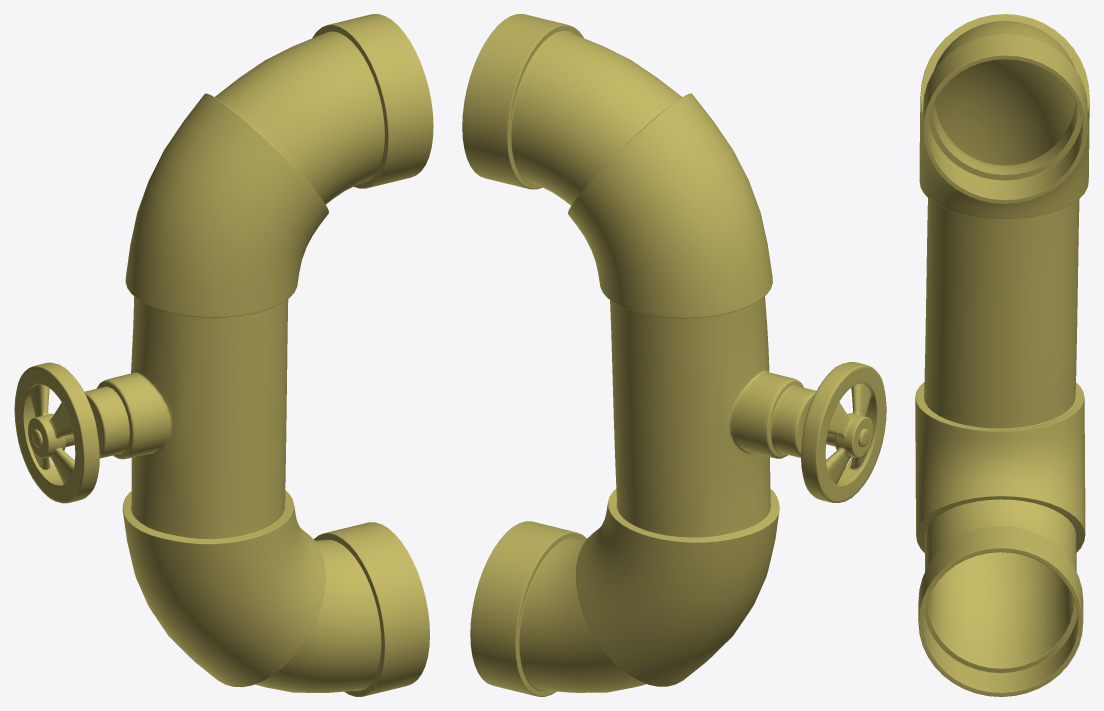
File: ValvulaAmarilla.fbx
The picture shows the model from 3 angles, left to right: view 1: azimuth 30°, elevation 25°; view 2: azimuth 150°, elevation 25°; view 3: azimuth 270°, elevation 25°; orthographic projection. The views are drawn at different scales.
Visible parts, largest first — view 1: TuberiaPared, Manivela; view 2: TuberiaPared, Manivela; view 3: TuberiaPared.
Part boxes in pixels (x1=…): TuberiaPared: x1=65, y1=14, x2=433, y2=696; Manivela: x1=14, y1=362, x2=99, y2=503; TuberiaPared: x1=462, y1=14, x2=835, y2=696; Manivela: x1=801, y1=362, x2=886, y2=502; TuberiaPared: x1=915, y1=14, x2=1089, y2=696.
Bounding box in the file's own units: 2.64 × 4.64 × 1.14.
